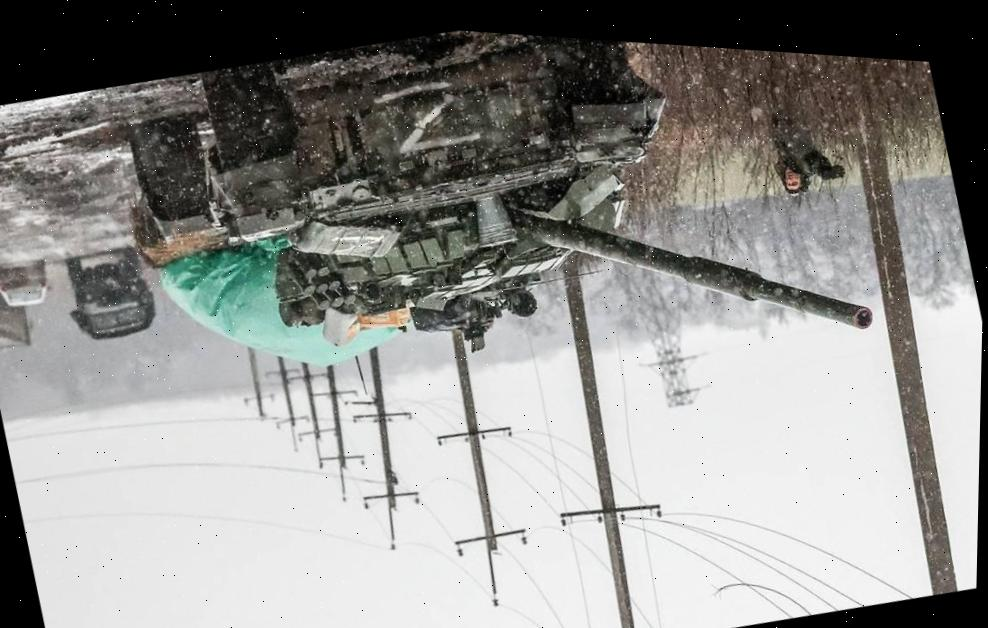car: (0, 252, 56, 318)
tank: (183, 13, 891, 489)
truck: (59, 235, 163, 347), (0, 268, 43, 355)
